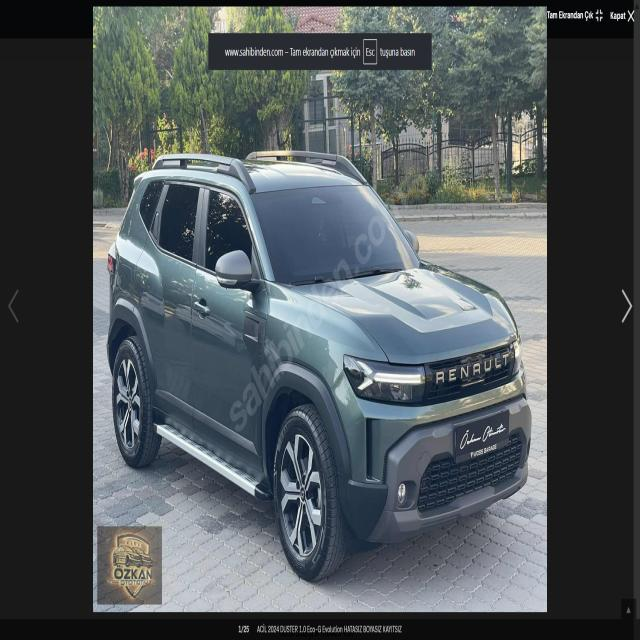renault: (432, 352, 510, 387)
